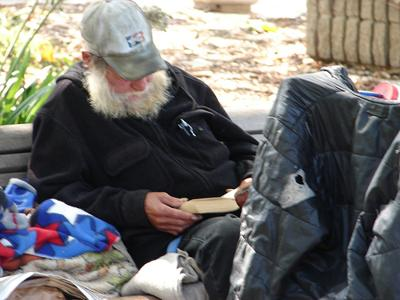person: (27, 2, 257, 298)
